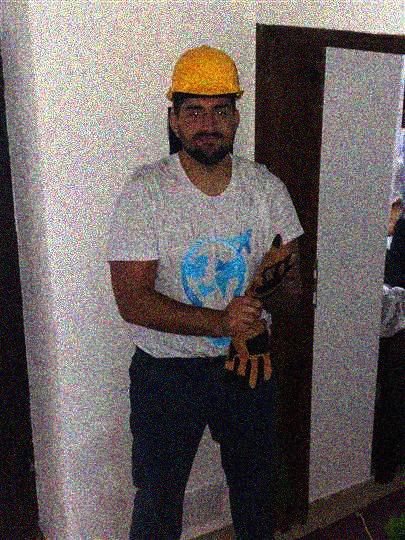helmet: (168, 44, 245, 167)
